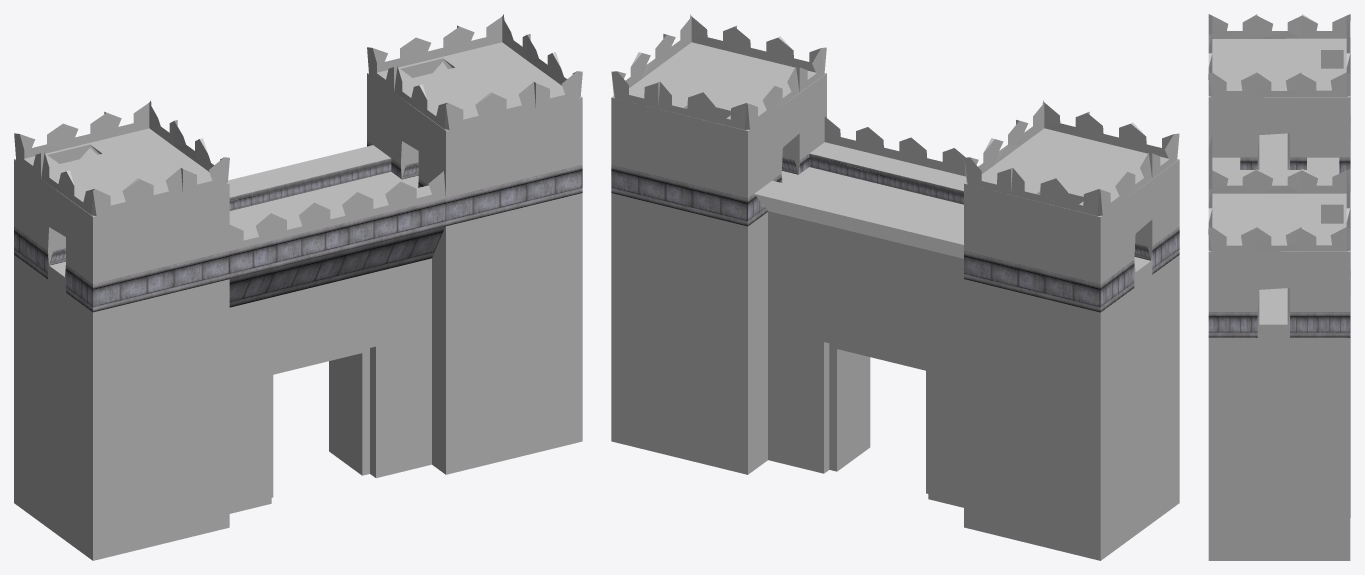
Rendered from LightWallGate.fbx.
The picture shows the model from 3 angles, left to right: view 1: azimuth 30°, elevation 25°; view 2: azimuth 150°, elevation 25°; view 3: azimuth 270°, elevation 25°; orthographic projection. The views are drawn at different scales.
Visible parts, largest first — view 1: WallGate; view 2: WallGate; view 3: WallGate.
Part boxes in pixels (box(x1,y1,x2,y2)): WallGate: box(14, 14, 582, 560); WallGate: box(611, 14, 1179, 560); WallGate: box(1208, 14, 1350, 560).
Bounding box in the file's own units: 1549 × 1118 × 434.
